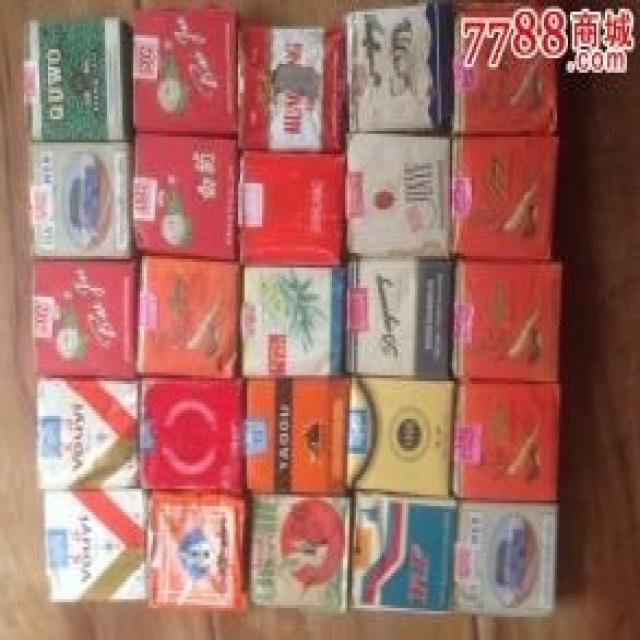box: (337, 5, 451, 135), (451, 4, 564, 134), (22, 14, 133, 144), (132, 127, 240, 258), (344, 128, 453, 256), (450, 257, 562, 380), (344, 254, 453, 380), (135, 249, 241, 378), (451, 134, 558, 258), (352, 486, 457, 612), (133, 8, 239, 132), (247, 490, 353, 613), (241, 24, 344, 150), (452, 378, 559, 499), (32, 256, 137, 379), (28, 141, 136, 260), (138, 374, 246, 492), (243, 376, 351, 493), (450, 501, 559, 616), (351, 376, 458, 492), (143, 490, 245, 611), (239, 152, 346, 264), (36, 374, 139, 488), (44, 487, 146, 602), (241, 268, 344, 375)
